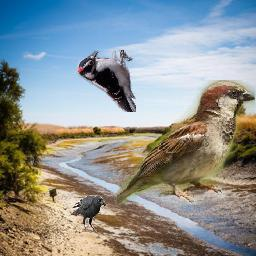Crow: (70, 196, 106, 233)
Sparrow: (117, 81, 255, 206)
Woodpecker: (76, 50, 136, 112)
